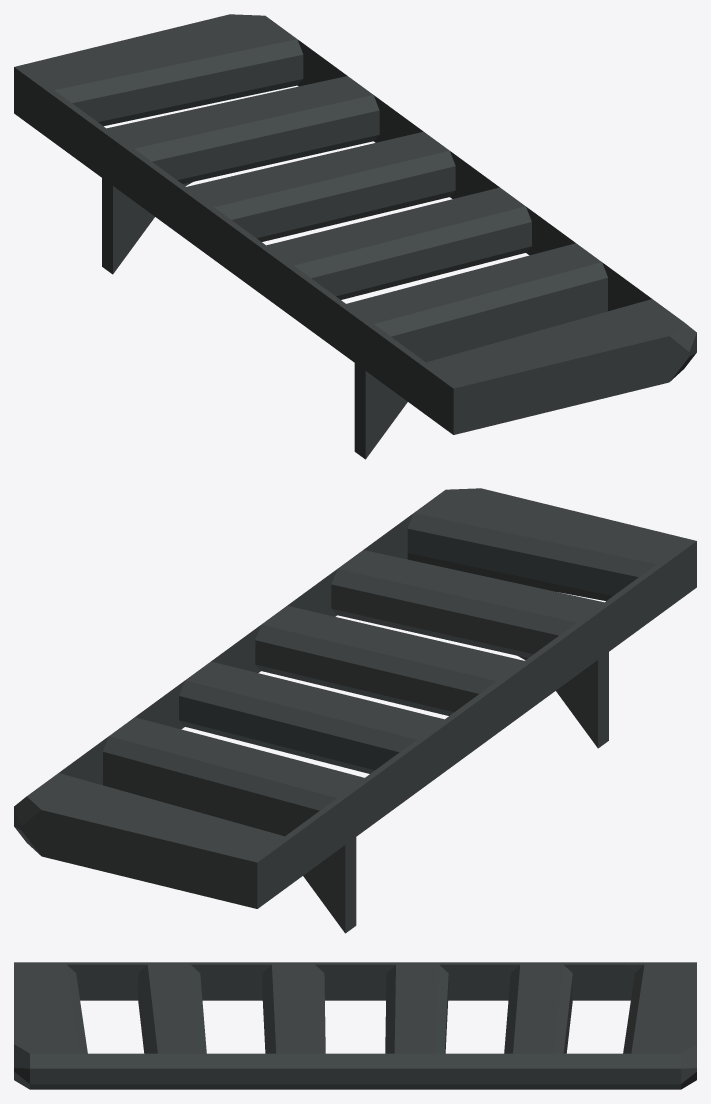
The model's file is platforma1.obj.
3 renders of one model, top to bottom at view 1: azimuth 30°, elevation 25°; view 2: azimuth 150°, elevation 25°; view 3: azimuth 270°, elevation 25°, orthographic. The views are drawn at different scales.
Parts seen in each view (by area): view 1: Cube; view 2: Cube; view 3: Cube.
Part boxes in pixels (bbox=[...]): Cube: bbox=[14, 14, 696, 459]; Cube: bbox=[14, 488, 696, 933]; Cube: bbox=[14, 962, 696, 1089].
Bounding box in the file's own units: 2 × 1.02 × 6.
1 material, 1 textured.
